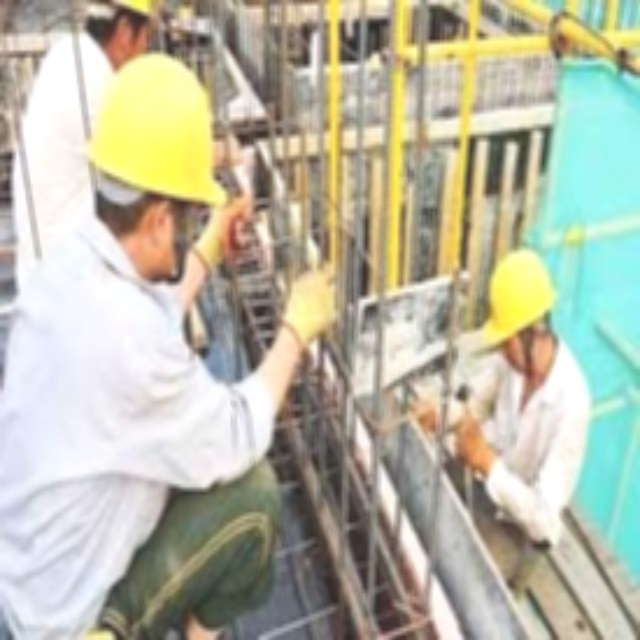Con_Casco: (482, 252, 559, 380)
